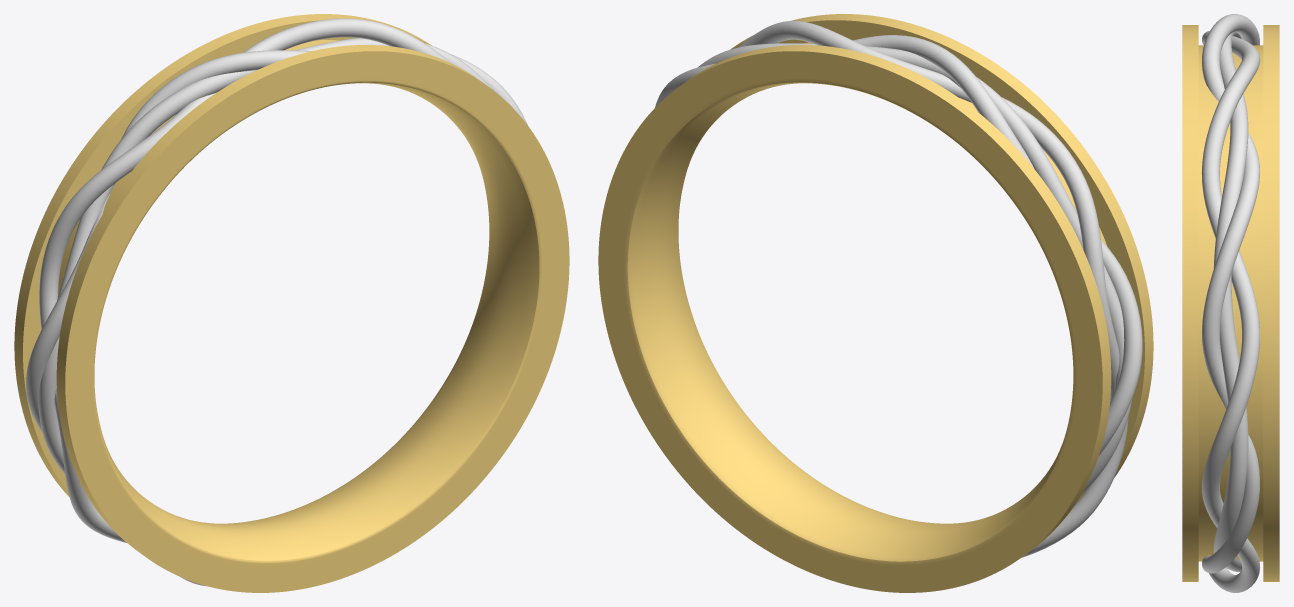
Rendered from RobertV4ptyg_blender.glb.
The picture shows the model from 3 angles, left to right: view 1: azimuth 30°, elevation 25°; view 2: azimuth 150°, elevation 25°; view 3: azimuth 270°, elevation 25°; orthographic projection. The views are drawn at different scales.
Parts seen in each view (by area): view 1: V4 Robert YG for 3d model, V4 Robert PT for 3d model; view 2: V4 Robert YG for 3d model, V4 Robert PT for 3d model; view 3: V4 Robert YG for 3d model, V4 Robert PT for 3d model.
Part boxes in pixels (left/top/right/bottom): V4 Robert YG for 3d model: left=14, top=14, right=569, bottom=592; V4 Robert PT for 3d model: left=26, top=18, right=527, bottom=586; V4 Robert YG for 3d model: left=598, top=14, right=1153, bottom=592; V4 Robert PT for 3d model: left=655, top=21, right=1142, bottom=557; V4 Robert YG for 3d model: left=1182, top=25, right=1279, bottom=581; V4 Robert PT for 3d model: left=1201, top=14, right=1260, bottom=592.
Size of the model in its own units: 25.73 by 25.02 by 4.3.
